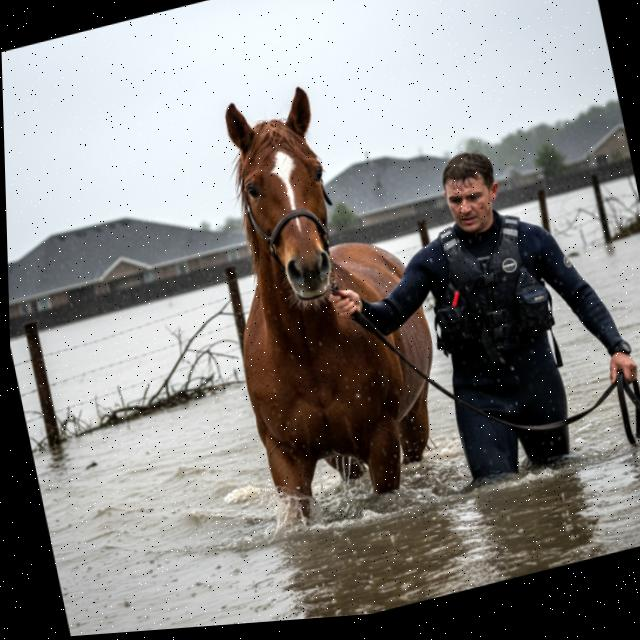civilian: (298, 109, 640, 535)
horse: (143, 27, 487, 573)
